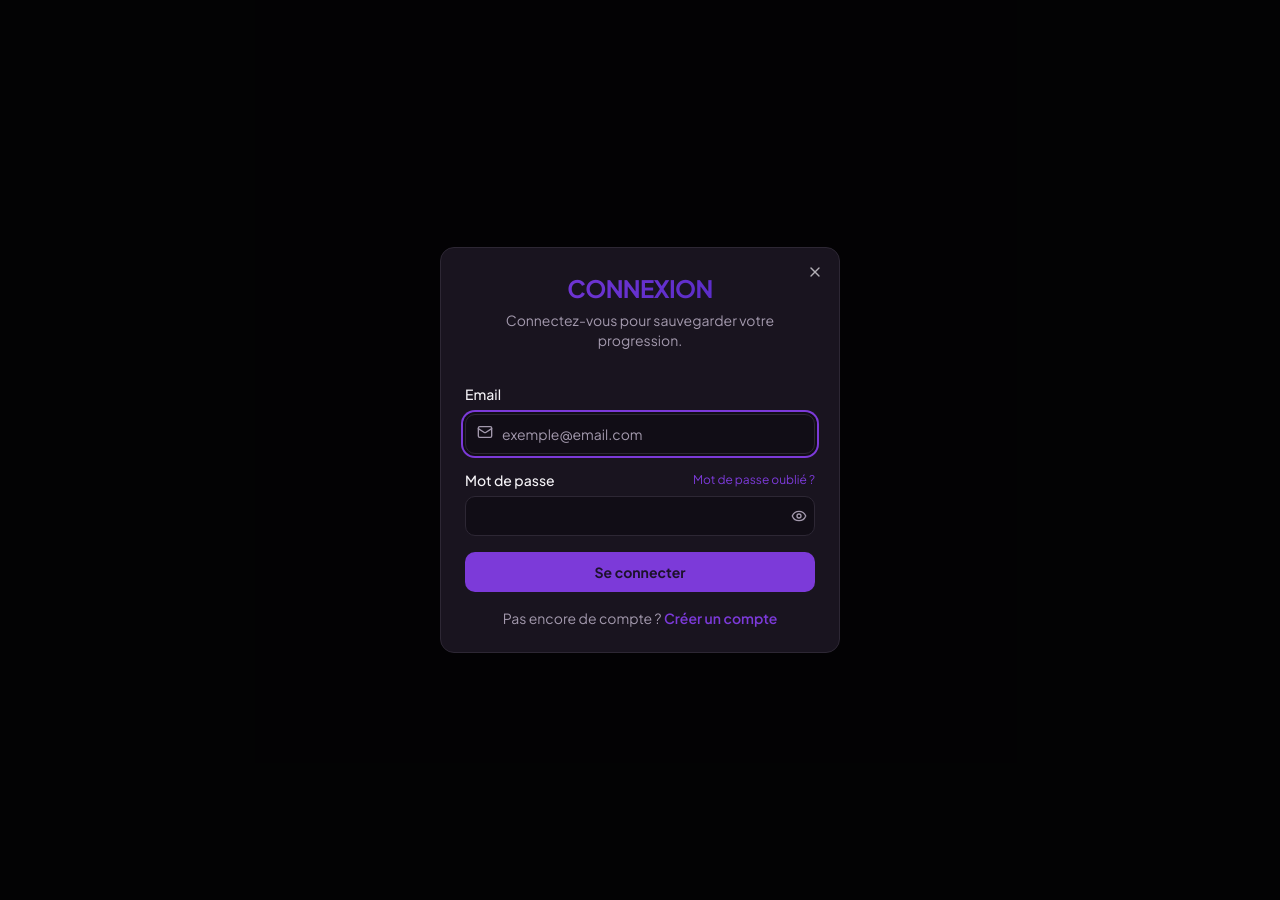
Test case: AuthModal › switches to forgot-password mode
Click the button "Mot de passe oublié ?".
click(754, 480)  # box [693,472,815,488]
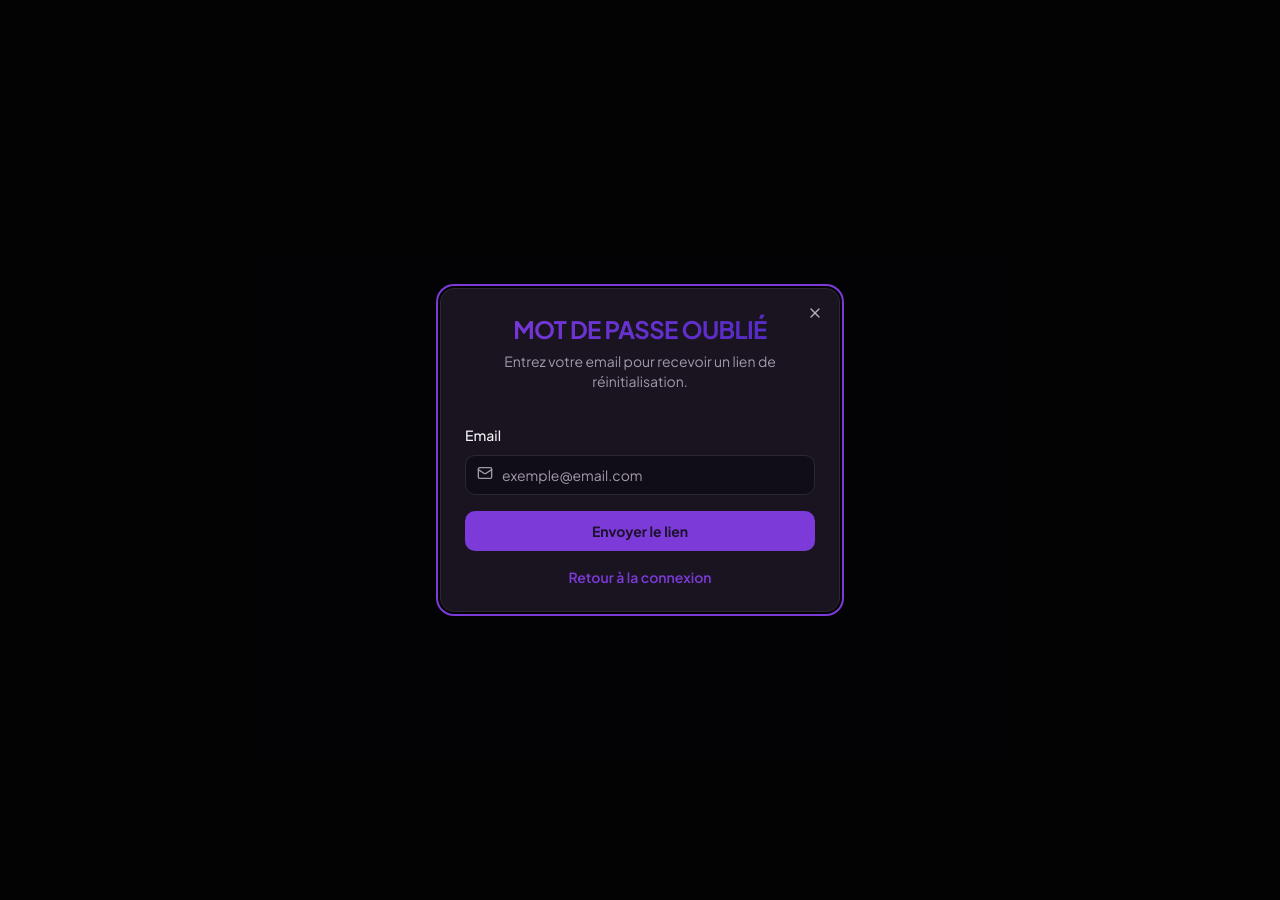
Check: the heading "MOT DE PASSE OUBLIÉ" is shown, box [465,313,815,345]
